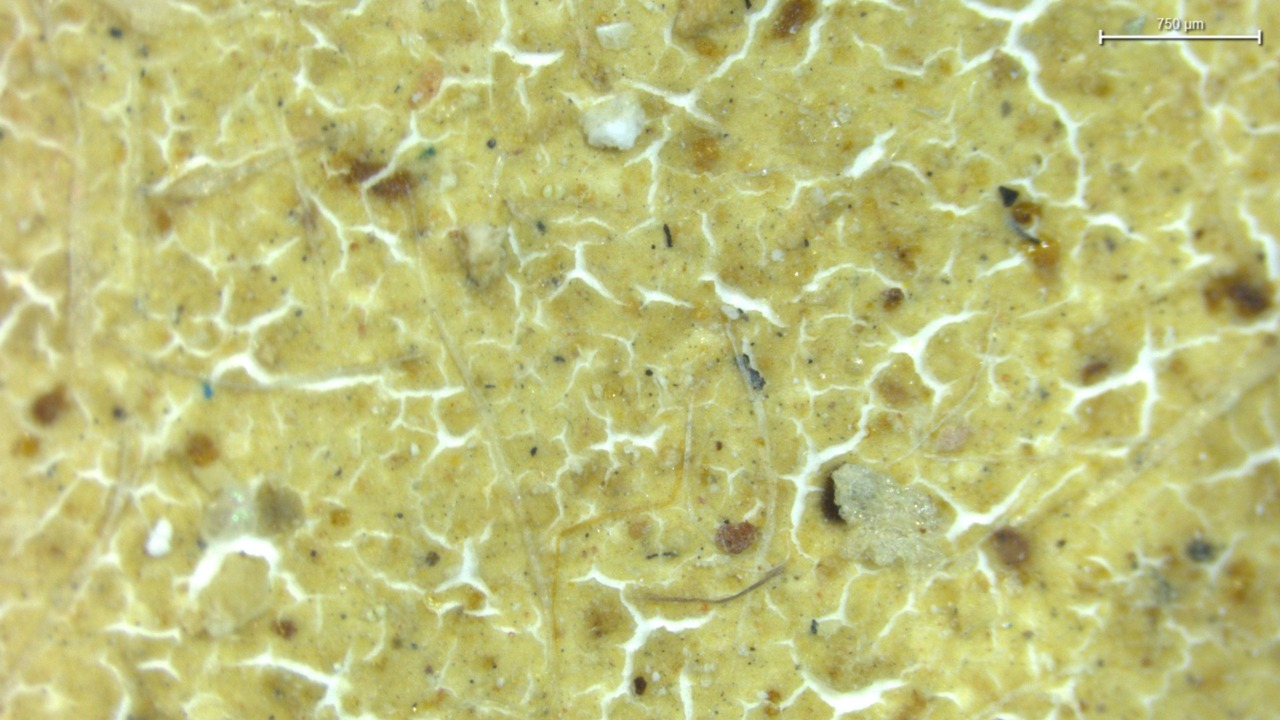microplastic_fragment: (829, 460, 951, 569), (579, 92, 643, 151)
